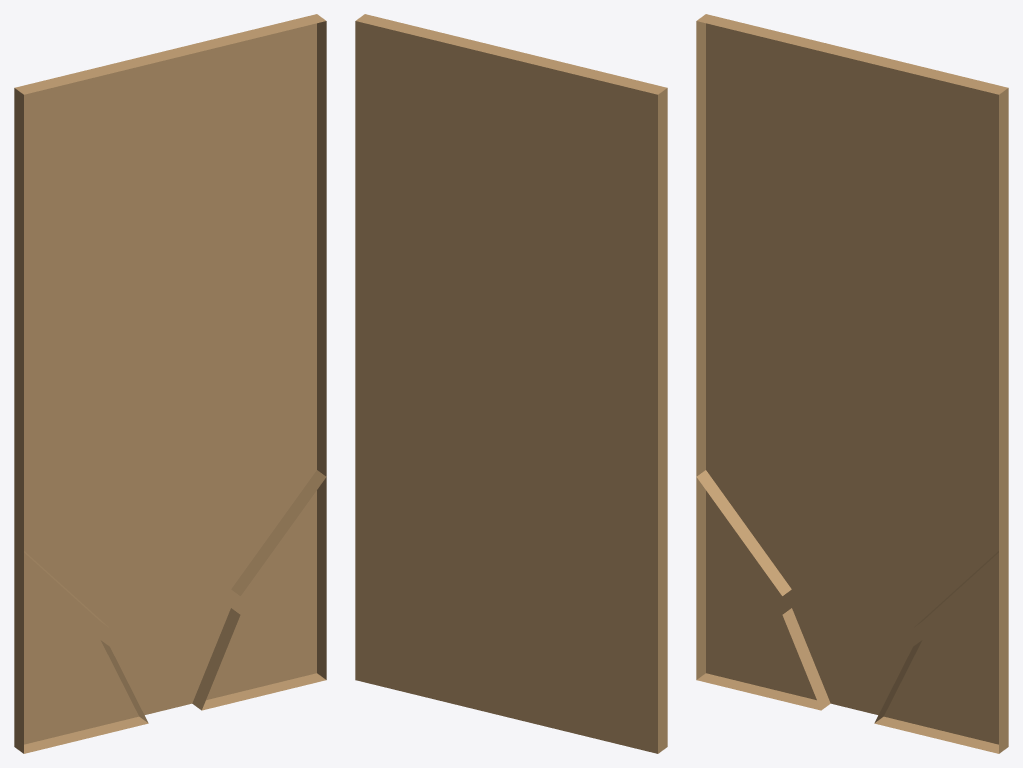
File: playfield.glb
3 renders of one model, left to right at view 1: azimuth 30°, elevation 25°; view 2: azimuth 150°, elevation 25°; view 3: azimuth 330°, elevation 25°, orthographic.
Visible parts, largest first — view 1: floor, walls[0], walls[2], walls[4]; view 2: floor, walls[0]; view 3: floor, walls[0], walls[1], walls[3].
Boxes of the visible parts, <box> form: floor: <box>24,23,316,744</box>; walls[0]: <box>14,14,326,753</box>; walls[2]: <box>231,470,326,595</box>; walls[4]: <box>192,608,240,710</box>; floor: <box>355,21,657,753</box>; walls[0]: <box>356,14,667,753</box>; floor: <box>706,23,998,744</box>; walls[0]: <box>696,14,1008,753</box>; walls[1]: <box>696,470,791,595</box>; walls[3]: <box>782,608,830,710</box>.
Bounding box in the file's own units: 0.514 × 1.07 × 0.028.
